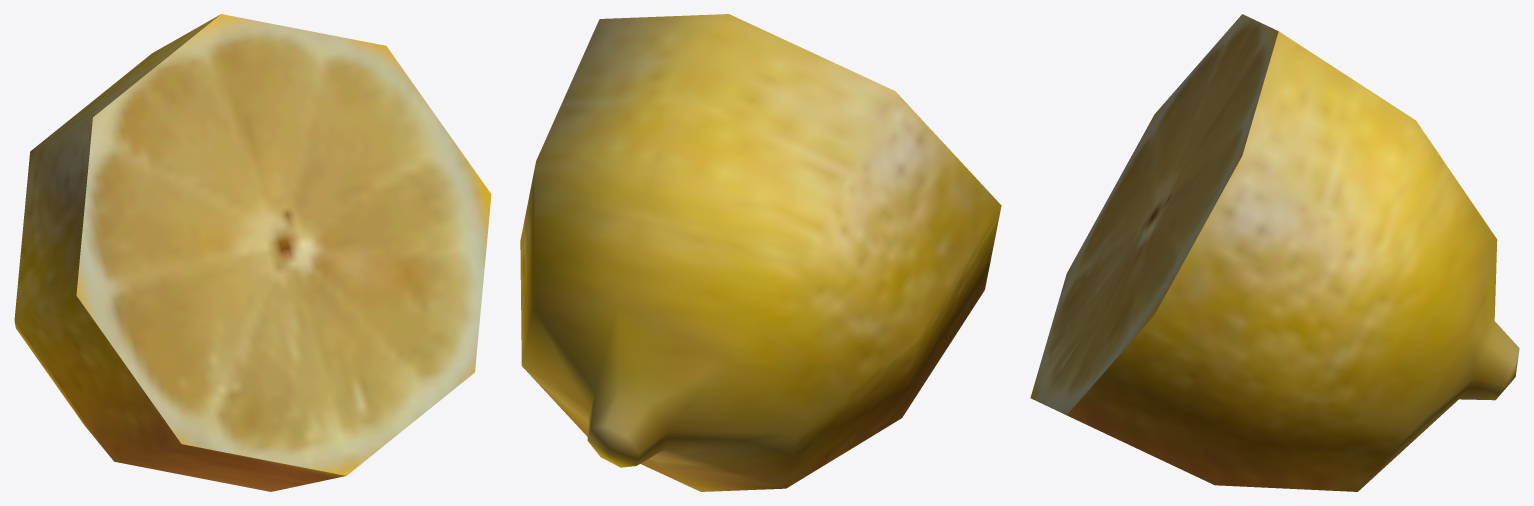
The model's file is lemon_lowpoly.glb.
3 renders of one model, left to right at view 1: azimuth 30°, elevation 25°; view 2: azimuth 150°, elevation 25°; view 3: azimuth 270°, elevation 25°, orthographic.
Parts seen in each view (by area): view 1: Object_2; view 2: Object_2; view 3: Object_2.
Part boxes in pixels (x1,y1,x2,y2): Object_2: (14, 14, 491, 491); Object_2: (520, 14, 1001, 491); Object_2: (1030, 14, 1519, 491).
Bounding box in the file's own units: 1.22 × 1.28 × 1.26.
1 material, 1 textured.
